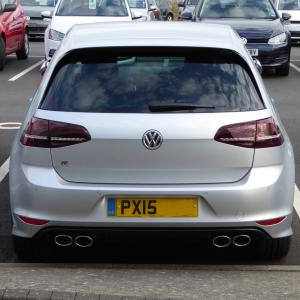Vehicle-registration-plate: (80, 194, 194, 236), (248, 50, 259, 57)
